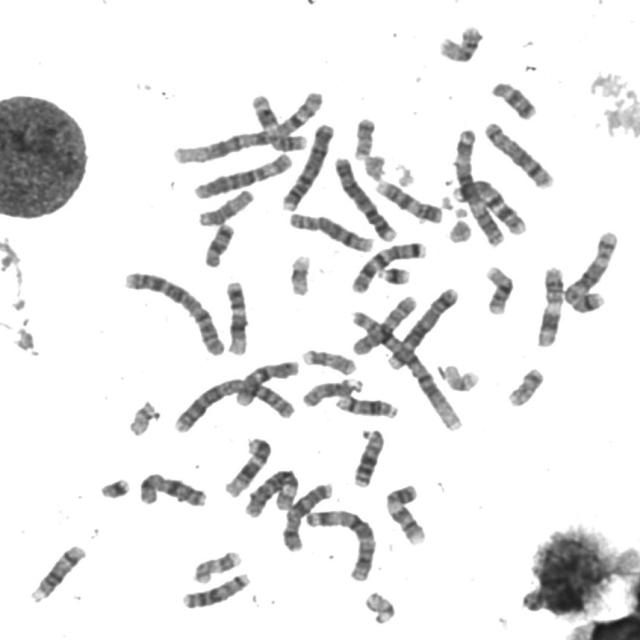A1: (346, 305, 466, 433), (168, 86, 326, 166)
A2: (119, 266, 228, 358), (168, 372, 297, 434)
A3: (449, 124, 506, 248), (302, 505, 378, 582)
B4: (330, 152, 400, 243), (279, 119, 336, 212)
B5: (384, 282, 461, 372), (560, 226, 621, 316)
C10: (350, 290, 420, 357), (230, 356, 302, 407)
C11: (247, 91, 308, 153), (533, 262, 566, 349)
C12: (221, 433, 274, 499), (222, 277, 251, 356)
C6: (190, 148, 296, 200), (240, 464, 302, 520)
C7: (450, 175, 530, 236), (347, 237, 428, 295)
C8: (481, 117, 556, 191), (284, 208, 376, 253)
C9: (371, 176, 444, 225), (381, 480, 429, 547)
D13: (178, 568, 252, 611), (349, 424, 387, 489)
D14: (27, 540, 88, 604), (332, 391, 401, 420)
D15: (194, 184, 257, 228), (298, 374, 365, 409)
E16: (434, 21, 484, 64), (481, 261, 517, 317)
E17: (189, 546, 244, 585), (298, 344, 358, 376)
E18: (488, 76, 539, 120), (200, 218, 237, 269)
F19: (285, 250, 314, 298), (440, 360, 482, 393)
F20: (503, 363, 547, 408), (349, 114, 378, 160)
G21: (95, 472, 133, 501), (374, 261, 413, 286)
G22: (125, 396, 159, 437), (360, 150, 389, 182)
X: (279, 478, 336, 554), (134, 468, 210, 509)
